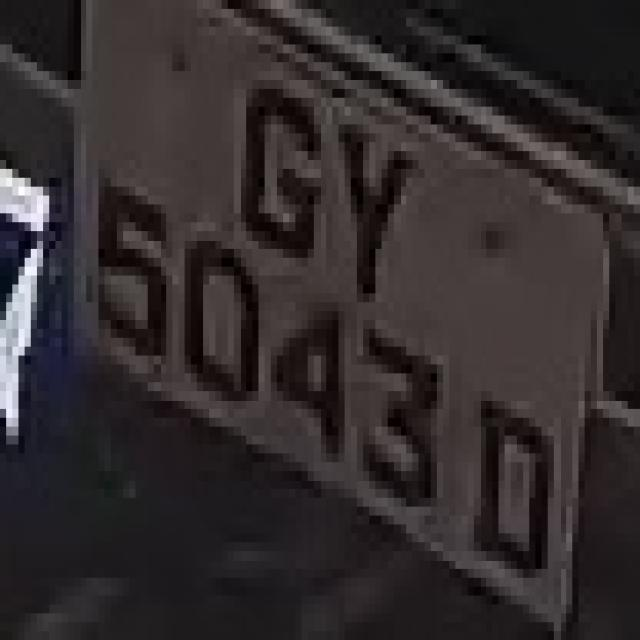0: (166, 178, 271, 426)
3: (351, 311, 437, 560)
4: (258, 249, 357, 507)
5: (80, 133, 172, 391)
D: (468, 373, 560, 604)
G: (228, 27, 326, 293)
Y: (320, 89, 418, 329)
